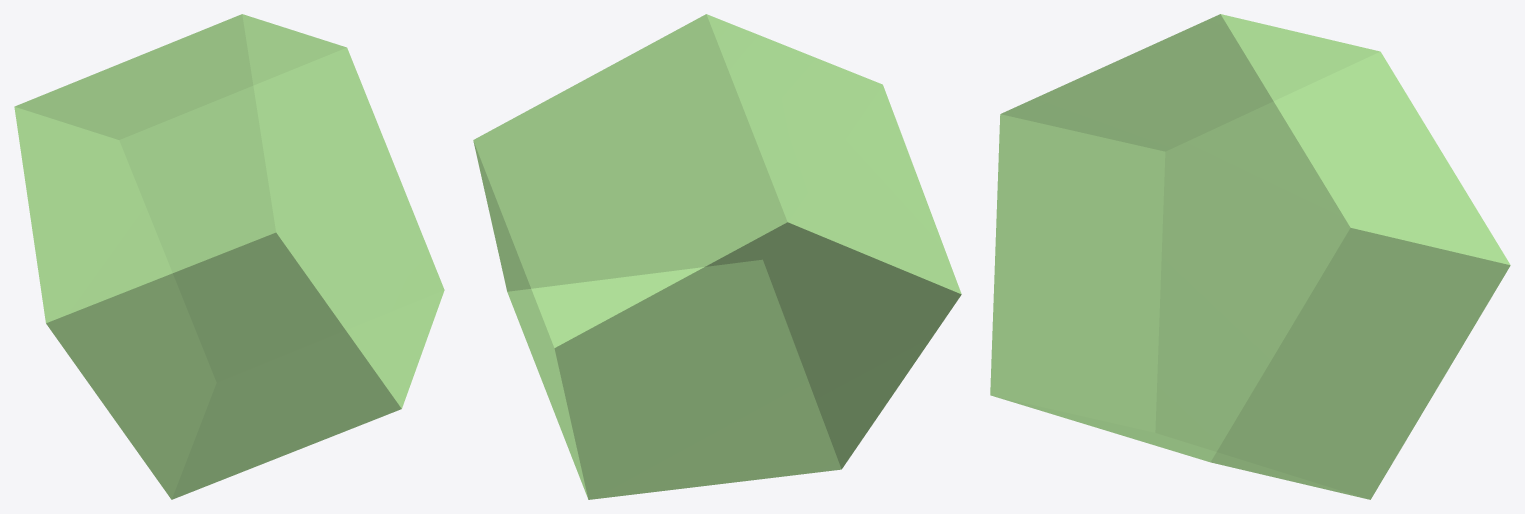
3 views of the same model, side by side, from view 1: azimuth 30°, elevation 25°; view 2: azimuth 150°, elevation 25°; view 3: azimuth 270°, elevation 25° (orthographic). The views are drawn at different scales.
Size of the model in its own units: 5.2 by 5.2 by 5.2.
